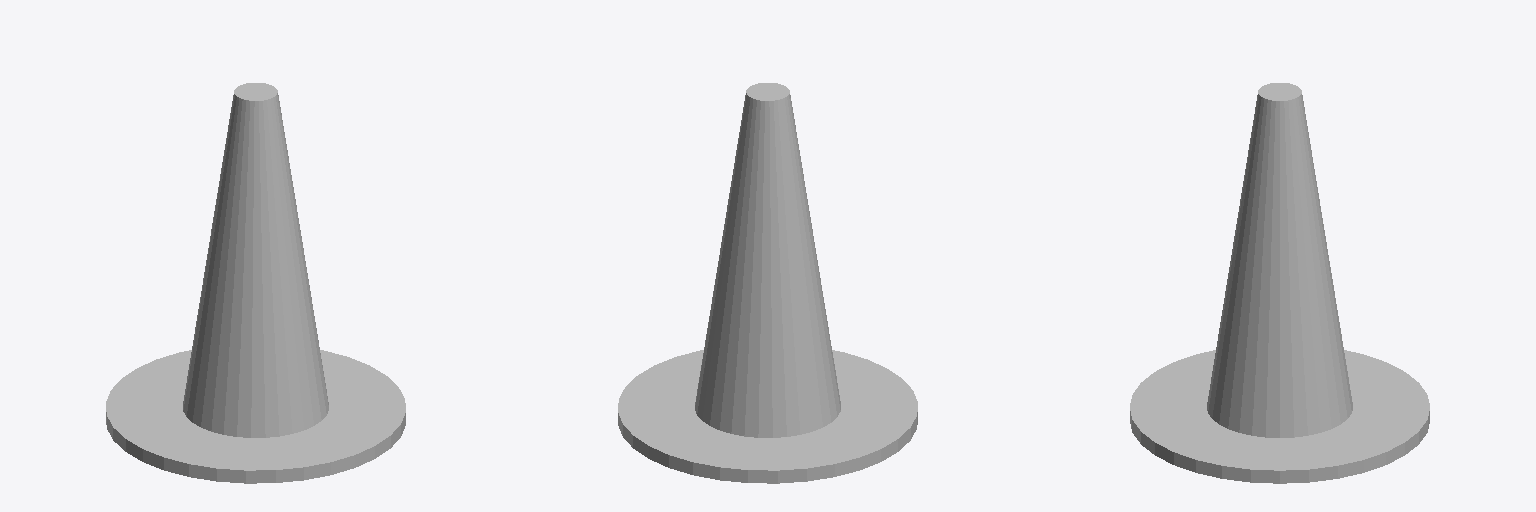
The model's file is lwpltrfccon7.obj.
3 views of the same model, side by side, from view 1: azimuth 30°, elevation 25°; view 2: azimuth 150°, elevation 25°; view 3: azimuth 270°, elevation 25° (orthographic).
Visible parts, largest first — view 1: Cylinder.001; view 2: Cylinder.001; view 3: Cylinder.001.
Part boxes in pixels (x1,y1,x2,y2): Cylinder.001: (106,83,405,483); Cylinder.001: (618,83,917,483); Cylinder.001: (1130,83,1429,483).
Bounding box in the file's own units: 2.49 × 3 × 2.49.